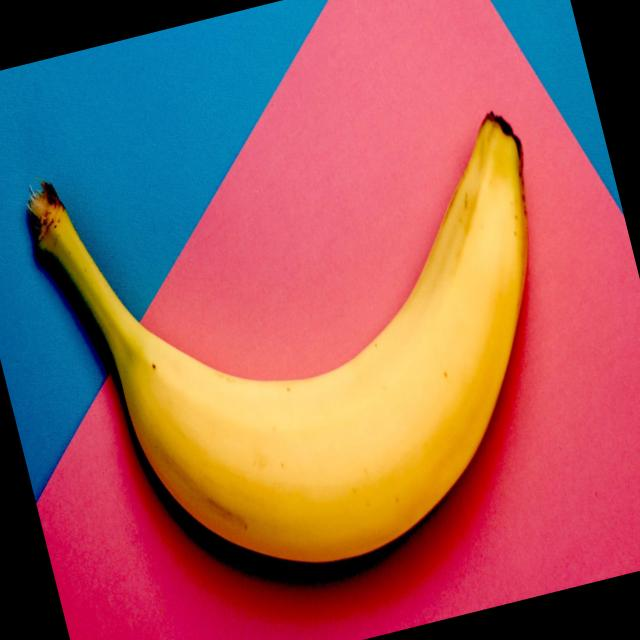banana: (23, 69, 622, 636)
